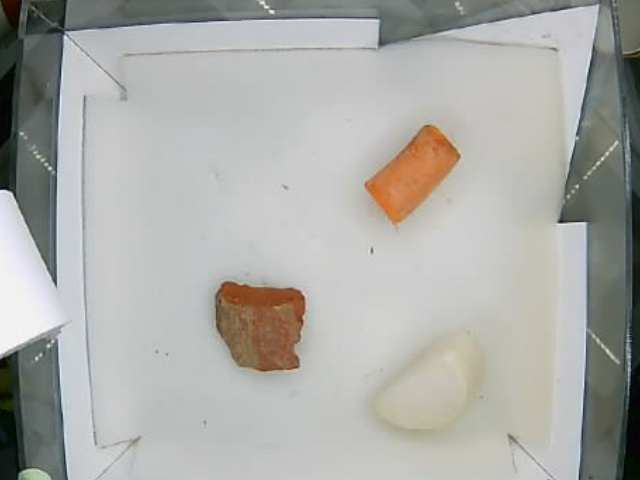Brisk: (213, 280, 306, 372)
Carrot: (363, 121, 465, 226)
Mooli: (367, 326, 484, 432)
